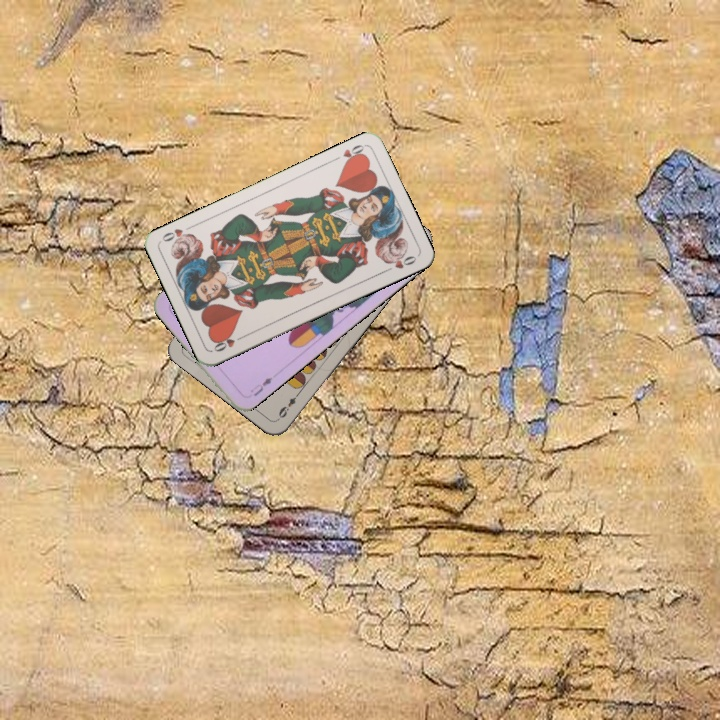E9: (274, 388, 303, 421)
EU: (246, 373, 275, 399)
HO: (329, 140, 368, 167), (209, 331, 248, 355)
